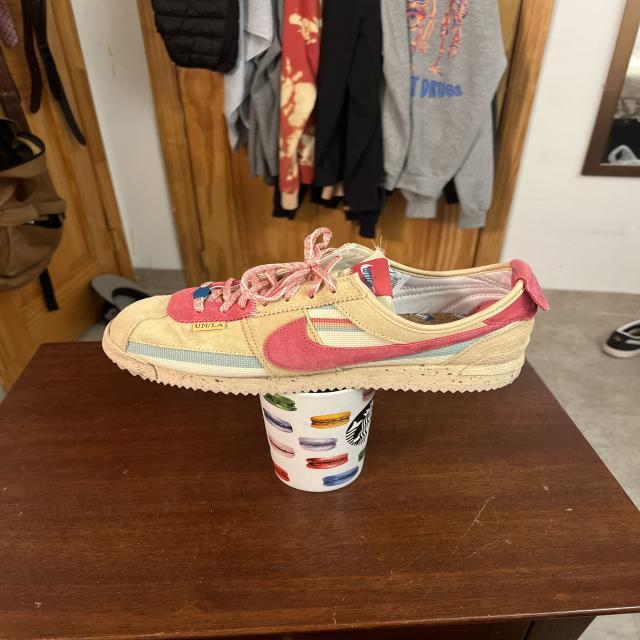shoe: (100, 231, 553, 395)
